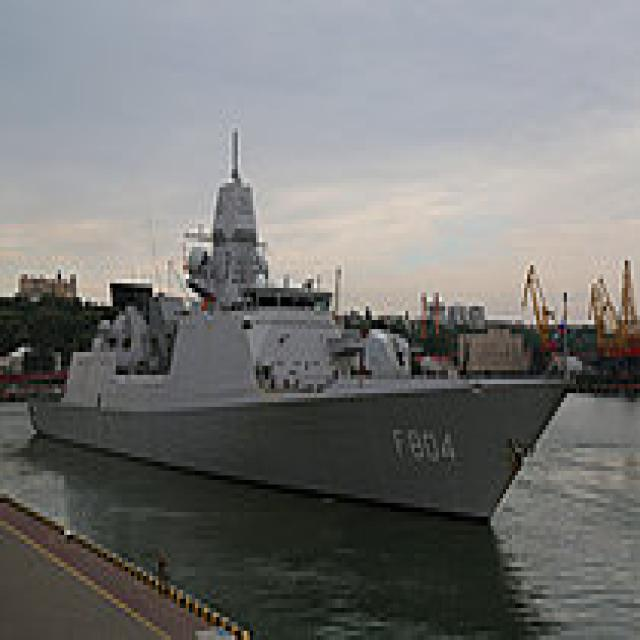Warship: (24, 119, 573, 526)
